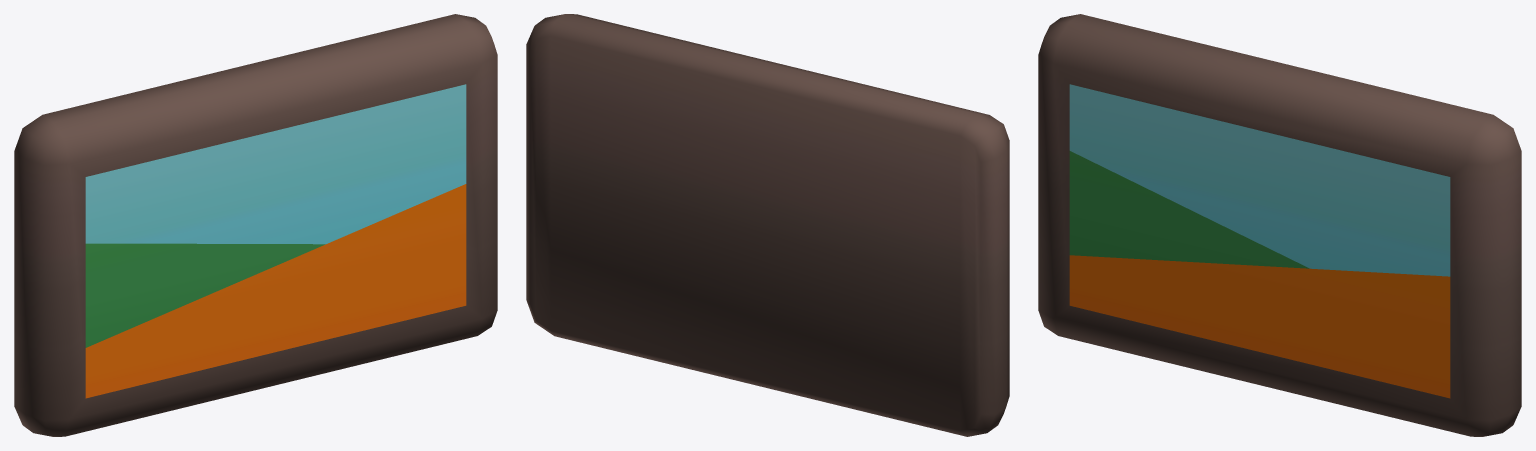
The model's file is Picture_18.glb.
3 views of the same model, side by side, from view 1: azimuth 30°, elevation 25°; view 2: azimuth 150°, elevation 25°; view 3: azimuth 330°, elevation 25° (orthographic).
Visible parts, largest first — view 1: Picture_18; view 2: Picture_18; view 3: Picture_18.
Boxes of the visible parts, left/top/right/bottom form: Picture_18: left=14, top=14, right=497, bottom=436; Picture_18: left=526, top=14, right=1009, bottom=436; Picture_18: left=1038, top=14, right=1521, bottom=436.
Size of the model in its own units: 0.5 by 0.32 by 0.06.
1 material, 1 textured.
